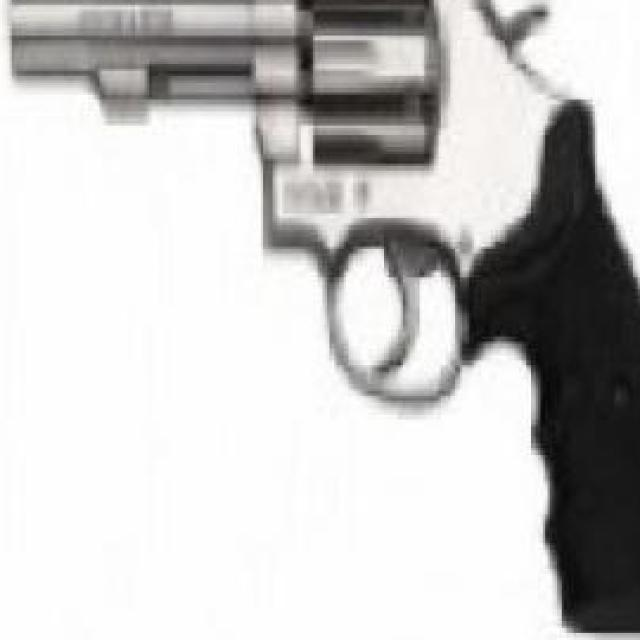pistol: (5, 0, 640, 628)
